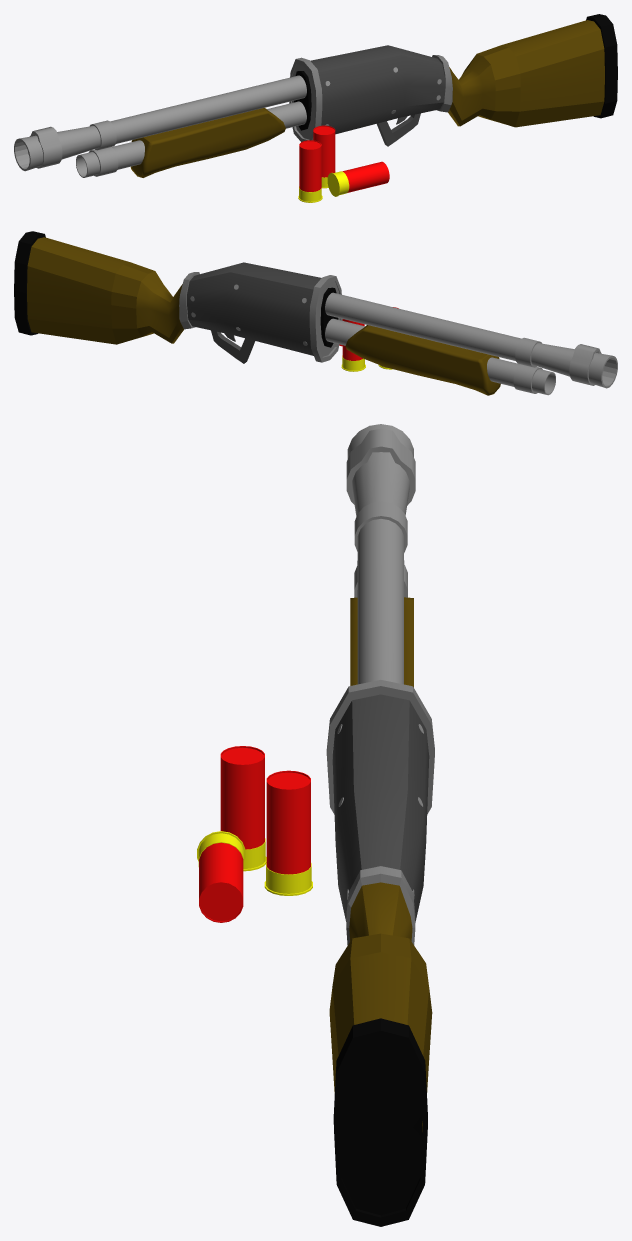
The model's file is gun with bullets.fbx.
3 views of the same model, one above another, from view 1: azimuth 30°, elevation 25°; view 2: azimuth 150°, elevation 25°; view 3: azimuth 270°, elevation 25° (orthographic). The views are drawn at different scales.
Parts seen in each view (by area): view 1: polySurface63; view 2: polySurface63; view 3: polySurface63.
Part boxes in pixels (x1,y1,x2,y2): polySurface63: (14, 14, 617, 202); polySurface63: (14, 231, 617, 395); polySurface63: (197, 424, 434, 1226).
Bounding box in the file's own units: 7 × 1.45 × 1.24.
